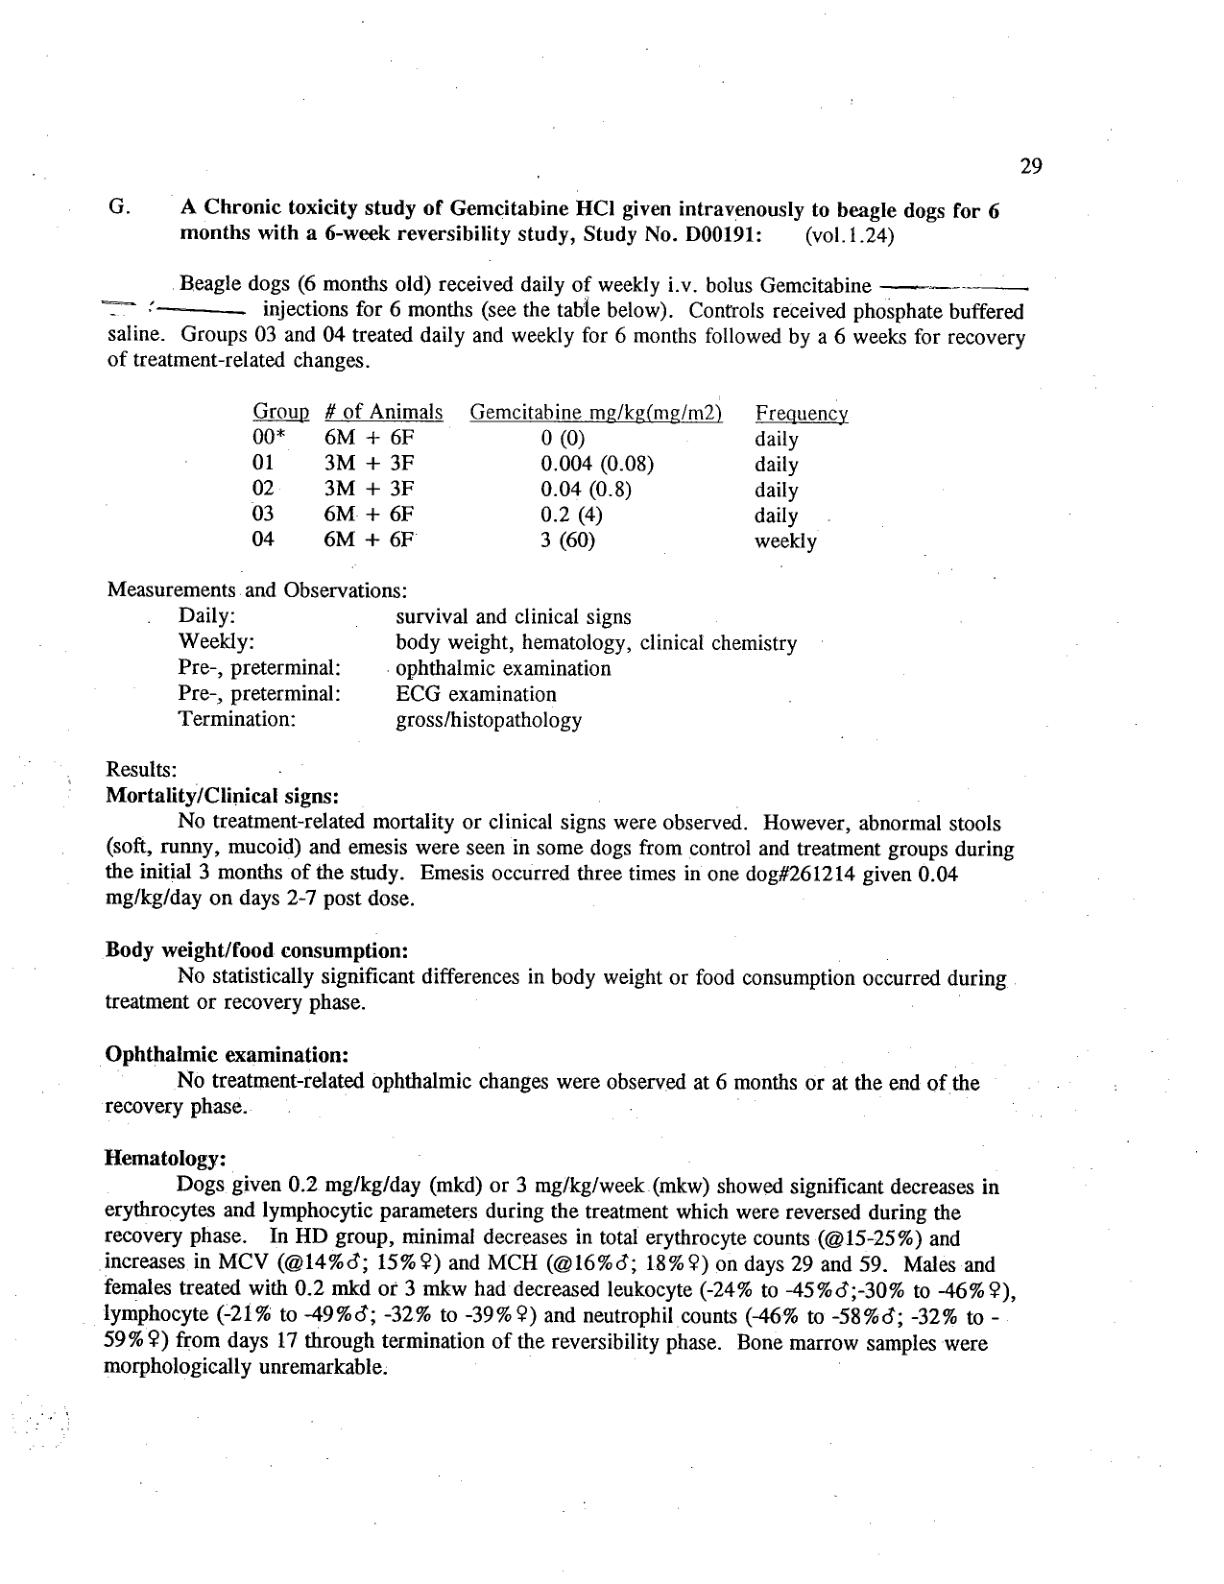nolines: (249, 401, 852, 554), (175, 603, 802, 734)
